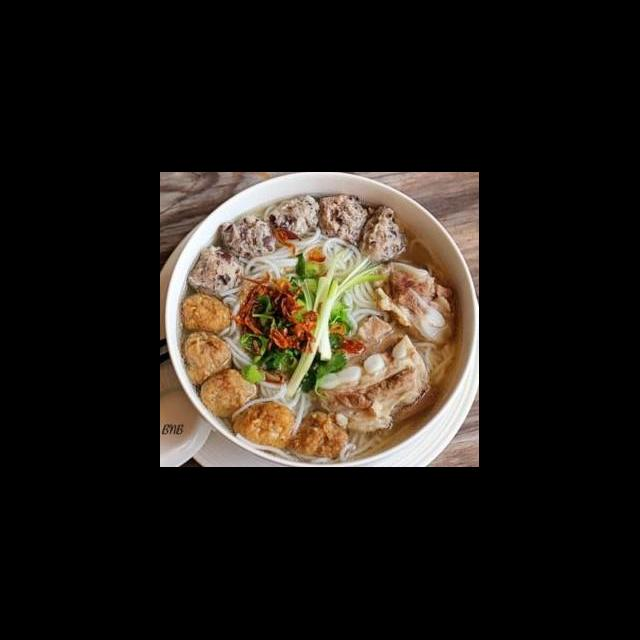bun: (324, 232, 386, 334), (238, 228, 322, 284), (218, 276, 255, 376), (252, 371, 322, 422), (412, 332, 458, 388)
vien moc: (318, 188, 377, 254), (354, 200, 410, 268), (264, 192, 326, 250), (184, 244, 248, 300), (215, 214, 282, 262)
